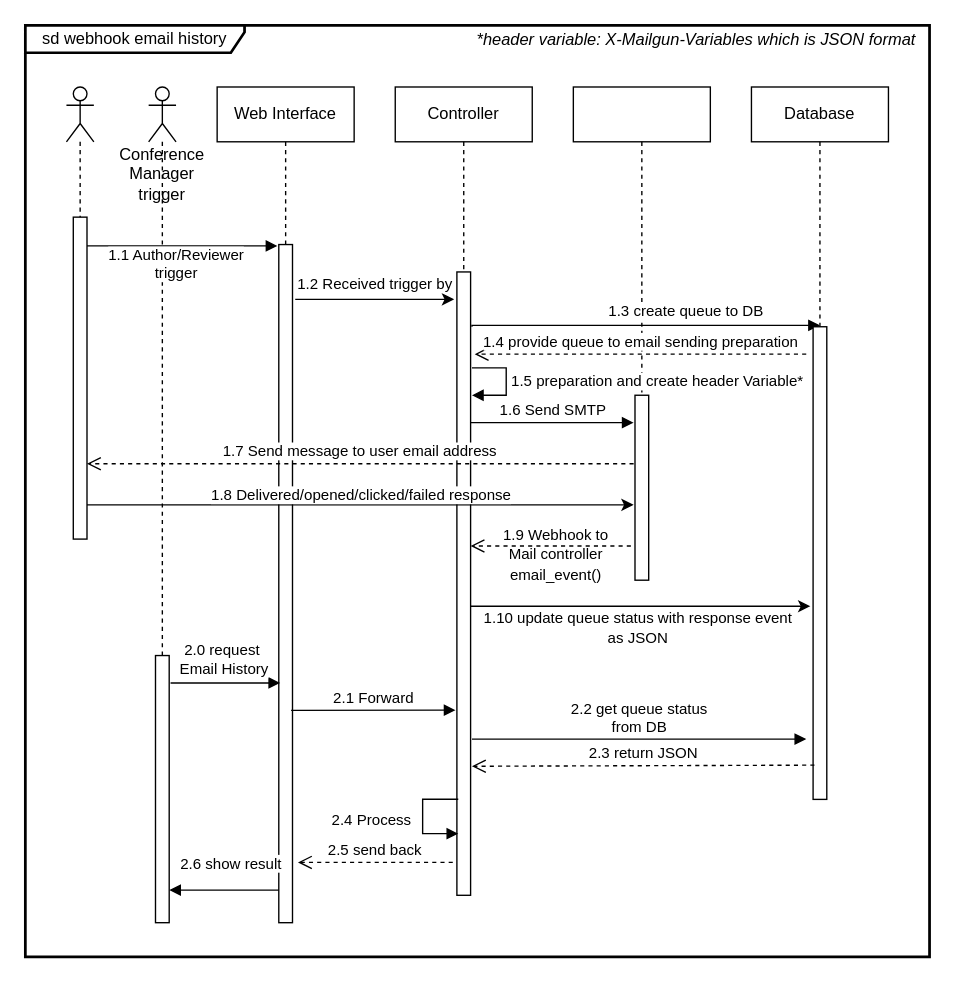
The diagram is 954 pixels wide and 981 high, and some of its shapes have lost their labels. The box of each missing label's shape, as (x1, y1, x2, y2) in pixels:
Email Service: (572, 86, 710, 539)
User: (65, 86, 94, 539)
